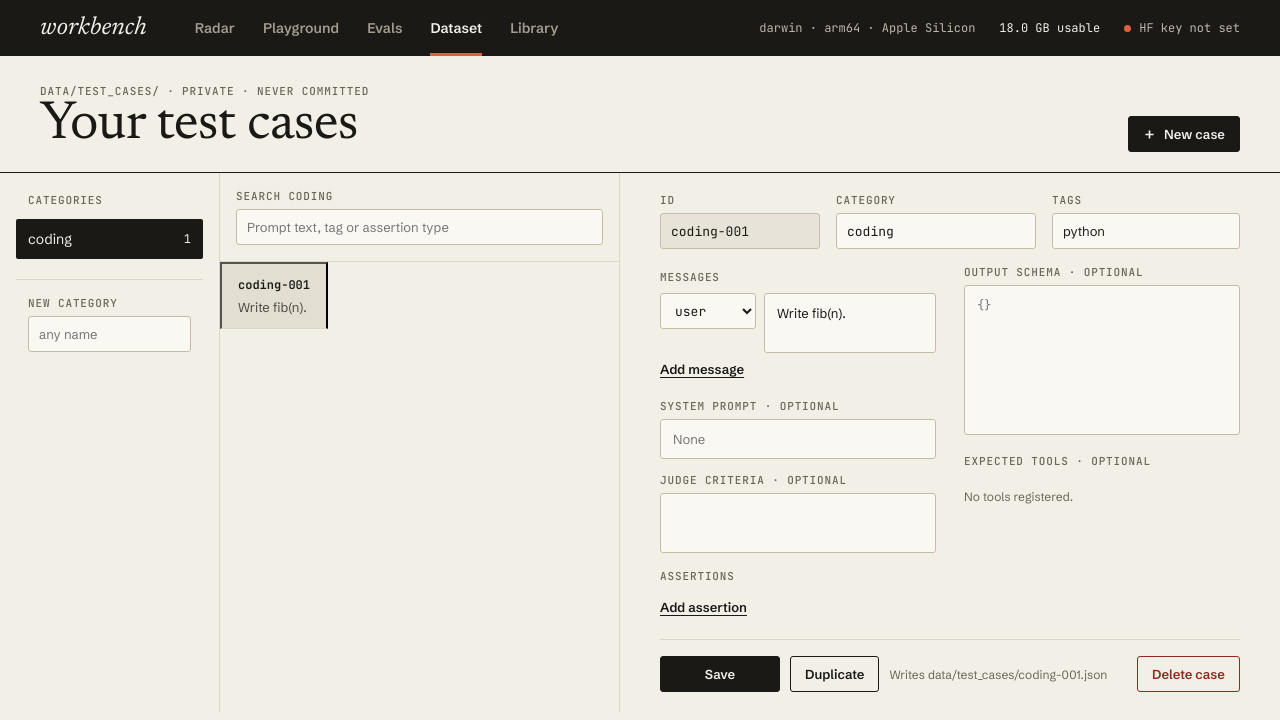
Scenario: DatasetPage › duplicate opens a prefilled -copy draft, not the original or a blank one
Check: the field labelled "ID" holds "coding-001", box [660,213,820,249]
Click the button "Duplicate" at (835, 674), box [790,656,879,692]
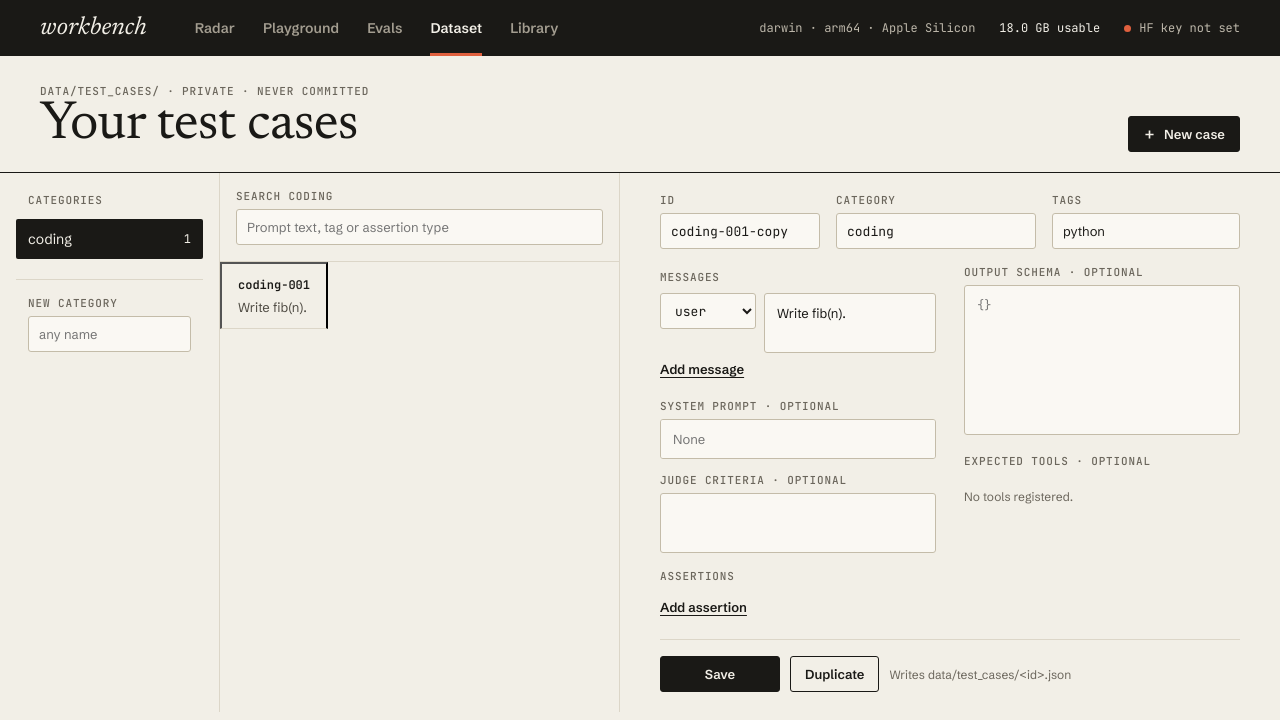
Check: the field labelled "Category" holds "coding", box [836,213,1036,249]
Check: the field labelled "ID" holds "coding-001-copy", box [660,213,820,249]
